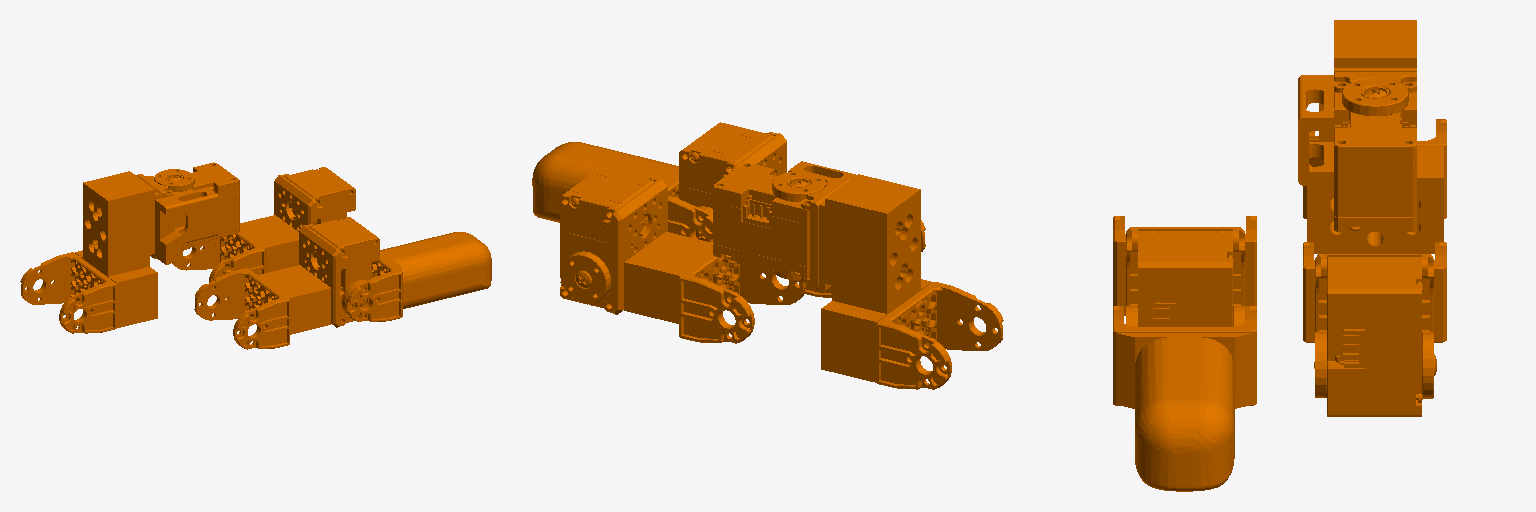
robot.urdf — onshape:
<robot name="onshape">
  <link name="palm_lower">
    <inertial>
      <origin xyz="0.0 0.0 0.0" rpy="0.0 -0.0 0.0"/>
      <mass value="0.237"/>
      <inertia ixx="0.000354094" ixy="-1.193e-06" ixz="-2.445e-06" iyy="0.000260915" iyz="-2.905e-06" izz="0.000529257"/>
    </inertial>
    <visual>
      <geometry>
        <mesh filename="../assets/leap/leap_hand/palm_lower.stl"/>
      </geometry>
      <origin xyz="-0.020095249652862544 0.025757756134899473 -0.034722403578460216" rpy="0.0 -0.0 0.0"/>
      <material name="palm_lower_material">
        <color rgba="0.6039215686274509 0.14901960784313725 0.14901960784313725 1.0"/>
      </material>
    </visual>
    <collision>
      <geometry>
        <mesh filename="../assets/leap/leap_hand/palm_lower.stl"/>
      </geometry>
      <origin xyz="-0.020095249652862544 0.025757756134899473 -0.034722403578460216" rpy="0.0 -0.0 0.0"/>
    </collision>
  </link>
  <link name="mcp_joint_long">
    <inertial>
      <origin xyz="0.0 0.0 0.0" rpy="0.0 -0.0 0.0"/>
      <mass value="0.044"/>
      <inertia ixx="1.1499e-05" ixy="3.049e-06" ixz="1.21e-07" iyy="7.796e-06" iyz="1.12e-07" izz="1.4759e-05"/>
    </inertial>
    <visual>
      <geometry>
        <mesh filename="custom_models/mcp_joint_long.stl"/>
      </geometry>
      <origin xyz="0.008406902261174496 0.0077662438597169954 0.014657354985032912" rpy="1.6375789613221e-15 -1.021047330249102e-30 1.7177968783327987e-31"/>
      <material name="mcp_joint_material">
        <color rgba="0.878 0.467 0.0 1.0"/>
      </material>
    </visual>
    <collision>
      <geometry>
        <mesh filename="custom_models/mcp_joint_long.stl"/>
      </geometry>
      <origin xyz="0.008406902261174496 0.0077662438597169954 0.014657354985032912" rpy="1.6375789613221e-15 -1.021047330249102e-30 1.7177968783327987e-31"/>
    </collision>
  </link>
  <link name="pip">
    <inertial>
      <origin xyz="0.0 0.0 0.0" rpy="0.0 -0.0 0.0"/>
      <mass value="0.032"/>
      <inertia ixx="4.798e-06" ixy="1.2e-08" ixz="4e-09" iyy="2.862e-06" iyz="1.1e-08" izz="4.234e-06"/>
    </inertial>
    <visual>
      <geometry>
        <mesh filename="../assets/leap/leap_hand/pip.stl"/>
      </geometry>
      <origin xyz="0.009643363092271328 0.0002999999999999895 0.0007840340104173765" rpy="-1.5707963267948966 -1.5707963267948963 0.0"/>
      <material name="pip_material">
        <color rgba="0.7490196078431373 0.7490196078431373 0.7490196078431373 1.0"/>
      </material>
    </visual>
    <collision>
      <geometry>
        <mesh filename="../assets/leap/leap_hand/pip.stl"/>
      </geometry>
      <origin xyz="0.009643363092271328 0.0002999999999999895 0.0007840340104173765" rpy="-1.5707963267948966 -1.5707963267948963 0.0"/>
    </collision>
  </link>
  <link name="dip_long">
    <inertial>
      <origin xyz="0.0 0.0 0.0" rpy="0.0 -0.0 0.0"/>
      <mass value="0.037"/>
      <inertia ixx="5.542e-06" ixy="-6.07e-07" ixz="-1.7e-08" iyy="5.727e-06" iyz="-2.3e-08" izz="6.682e-06"/>
    </inertial>
    <visual>
      <geometry>
        <mesh filename="custom_models/dip_long.stl"/>
      </geometry>
      <origin xyz="0.021133352895225003 -0.00843211914670488 0.00978508816209524" rpy="-3.141592653589793 4.507511124216441e-32 4.439548105392361e-32"/>
      <material name="dip_material">
        <color rgba="0.878 0.467 0.0 1.0"/>
      </material>
    </visual>
    <collision>
      <geometry>
        <mesh filename="custom_models/dip_long.stl"/>
      </geometry>
      <origin xyz="0.021133352895225003 -0.00843211914670488 0.00978508816209524" rpy="-3.141592653589793 4.507511124216441e-32 4.439548105392361e-32"/>
    </collision>
  </link>
  <link name="fingertip">
    <inertial>
      <origin xyz="0.0 0.0 0.0" rpy="0.0 -0.0 0.0"/>
      <mass value="0.016"/>
      <inertia ixx="3.368e-06" ixy="1.15e-07" ixz="0.0" iyy="1.556e-06" iyz="0.0" izz="2.863e-06"/>
    </inertial>
    <visual>
      <geometry>
        <mesh filename="../assets/leap/leap_hand/fingertip.stl"/>
      </geometry>
      <origin xyz="0.013286424108533503 -0.006114238386541987 0.014499999999999498" rpy="3.141592653589793 1.1993117970061735e-33 4.439548105392361e-32"/>
      <material name="fingertip_material">
        <color rgba="0.8666666666666667 0.8666666666666667 0.050980392156862744 1.0"/>
      </material>
    </visual>
    <collision>
      <geometry>
        <mesh filename="../assets/leap/leap_hand/fingertip.stl"/>
      </geometry>
      <origin xyz="0.013286424108533503 -0.006114238386541987 0.014499999999999498" rpy="3.141592653589793 1.1993117970061735e-33 4.439548105392361e-32"/>
    </collision>
  </link>
  <link name="pip_4">
    <inertial>
      <origin xyz="0.0 0.0 0.0" rpy="0.0 -0.0 0.0"/>
      <mass value="0.032"/>
      <inertia ixx="4.798e-06" ixy="1.2e-08" ixz="4e-09" iyy="2.862e-06" iyz="1.1e-08" izz="4.234e-06"/>
    </inertial>
    <visual>
      <geometry>
        <mesh filename="../assets/leap/leap_hand/pip.stl"/>
      </geometry>
      <origin xyz="-0.005356636907728671 0.0002999999999999999 0.0007840340104173782" rpy="-1.5707963267948966 -1.5707963267948963 0.0"/>
      <material name="pip_material">
        <color rgba="0.7490196078431373 0.7490196078431373 0.7490196078431373 1.0"/>
      </material>
    </visual>
    <collision>
      <geometry>
        <mesh filename="../assets/leap/leap_hand/pip.stl"/>
      </geometry>
      <origin xyz="-0.005356636907728671 0.0002999999999999999 0.0007840340104173782" rpy="-1.5707963267948966 -1.5707963267948963 0.0"/>
    </collision>
  </link>
  <link name="thumb_pip">
    <inertial>
      <origin xyz="0.0 0.0 0.0" rpy="0.0 -0.0 0.0"/>
      <mass value="0.003"/>
      <inertia ixx="5.93e-07" ixy="0.0" ixz="0.0" iyy="5.49e-07" iyz="0.0" izz="2.24e-07"/>
    </inertial>
    <visual>
      <geometry>
        <mesh filename="../assets/leap/leap_hand/thumb_pip.stl"/>
      </geometry>
      <origin xyz="0.011961920770611187 -5.30825383648903e-16 -0.0158526489566642" rpy="1.5707963267948966 1.6050198443300153e-46 -3.9204996250525193e-59"/>
      <material name="thumb_pip_material">
        <color rgba="0.8666666666666667 0.8666666666666667 0.050980392156862744 1.0"/>
      </material>
    </visual>
    <collision>
      <geometry>
        <mesh filename="../assets/leap/leap_hand/thumb_pip.stl"/>
      </geometry>
      <origin xyz="0.011961920770611187 -5.30825383648903e-16 -0.0158526489566642" rpy="1.5707963267948966 1.6050198443300153e-46 -3.9204996250525193e-59"/>
    </collision>
  </link>
  <link name="thumb_dip">
    <inertial>
      <origin xyz="0.0 0.0 0.0" rpy="0.0 -0.0 0.0"/>
      <mass value="0.038"/>
      <inertia ixx="8.474e-06" ixy="2.41e-07" ixz="2.6e-08" iyy="3.841e-06" iyz="2.5e-08" izz="7.679e-06"/>
    </inertial>
    <visual>
      <geometry>
        <mesh filename="../assets/leap/leap_hand/thumb_dip.stl"/>
      </geometry>
      <origin xyz="0.043968715707239175 0.0579529529737092 -0.008628676449369476" rpy="1.94289029309401e-16 3.27515792264422e-15 1.112375852965736e-46"/>
      <material name="thumb_dip_material">
        <color rgba="0.8666666666666667 0.8666666666666667 0.050980392156862744 1.0"/>
      </material>
    </visual>
    <collision>
      <geometry>
        <mesh filename="../assets/leap/leap_hand/thumb_dip.stl"/>
      </geometry>
      <origin xyz="0.043968715707239175 0.0579529529737092 -0.008628676449369476" rpy="1.94289029309401e-16 3.27515792264422e-15 1.112375852965736e-46"/>
    </collision>
  </link>
  <link name="thumb_fingertip">
    <inertial>
      <origin xyz="0.0 0.0 0.0" rpy="0.0 -0.0 0.0"/>
      <mass value="0.049"/>
      <inertia ixx="2.0372e-05" ixy="-4.89e-07" ixz="-3e-08" iyy="4.336e-06" iyz="-9.7e-08" izz="1.9845e-05"/>
    </inertial>
    <visual>
      <geometry>
        <mesh filename="../assets/leap/leap_hand/thumb_fingertip.stl"/>
      </geometry>
      <origin xyz="0.06255953846266739 0.07845968291139699 0.048992911807332215" rpy="4.379057701015637e-47 -3.33066907387547e-16 1.2042408677791935e-46"/>
      <material name="thumb_fingertip_material">
        <color rgba="0.6039215686274509 0.14901960784313725 0.14901960784313725 1.0"/>
      </material>
    </visual>
    <collision>
      <geometry>
        <mesh filename="../assets/leap/leap_hand/thumb_fingertip.stl"/>
      </geometry>
      <origin xyz="0.06255953846266739 0.07845968291139699 0.048992911807332215" rpy="4.379057701015637e-47 -3.33066907387547e-16 1.2042408677791935e-46"/>
    </collision>
  </link>
  <link name="mcp_joint_2">
    <inertial>
      <origin xyz="0.0 0.0 0.0" rpy="0.0 -0.0 0.0"/>
      <mass value="0.044"/>
      <inertia ixx="1.1499e-05" ixy="3.049e-06" ixz="1.21e-07" iyy="7.796e-06" iyz="1.12e-07" izz="1.4759e-05"/>
    </inertial>
    <visual>
      <geometry>
        <mesh filename="../assets/leap/leap_hand/mcp_joint.stl"/>
      </geometry>
      <origin xyz="0.008406902261174496 0.0077662438597169954 0.014657354985032914" rpy="1.6375789613221e-15 -1.0076465469034e-30 2.1209300131419907e-61"/>
      <material name="mcp_joint_material">
        <color rgba="0.8666666666666667 0.8666666666666667 0.050980392156862744 1.0"/>
      </material>
    </visual>
    <collision>
      <geometry>
        <mesh filename="../assets/leap/leap_hand/mcp_joint.stl"/>
      </geometry>
      <origin xyz="0.008406902261174496 0.0077662438597169954 0.014657354985032914" rpy="1.6375789613221e-15 -1.0076465469034e-30 2.1209300131419907e-61"/>
    </collision>
  </link>
  <link name="pip_2">
    <inertial>
      <origin xyz="0.0 0.0 0.0" rpy="0.0 -0.0 0.0"/>
      <mass value="0.032"/>
      <inertia ixx="4.798e-06" ixy="1.2e-08" ixz="4e-09" iyy="2.862e-06" iyz="1.1e-08" izz="4.234e-06"/>
    </inertial>
    <visual>
      <geometry>
        <mesh filename="../assets/leap/leap_hand/pip.stl"/>
      </geometry>
      <origin xyz="0.009643363092271328 0.0002999999999999947 0.0007840340104173765" rpy="-1.5707963267948966 -1.5707963267948963 0.0"/>
      <material name="pip_material">
        <color rgba="0.7490196078431373 0.7490196078431373 0.7490196078431373 1.0"/>
      </material>
    </visual>
    <collision>
      <geometry>
        <mesh filename="../assets/leap/leap_hand/pip.stl"/>
      </geometry>
      <origin xyz="0.009643363092271328 0.0002999999999999947 0.0007840340104173765" rpy="-1.5707963267948966 -1.5707963267948963 0.0"/>
    </collision>
  </link>
  <link name="dip_2_long">
    <inertial>
      <origin xyz="0.0 0.0 0.0" rpy="0.0 -0.0 0.0"/>
      <mass value="0.037"/>
      <inertia ixx="5.542e-06" ixy="-6.07e-07" ixz="-1.7e-08" iyy="5.727e-06" iyz="-2.3e-08" izz="6.682e-06"/>
    </inertial>
    <visual>
      <geometry>
        <mesh filename="custom_models/dip_long.stl"/>
      </geometry>
      <origin xyz="0.021133352895225003 -0.008432119146704865 0.009785088162095237" rpy="-3.141592653589793 2.1146933785271956e-32 1.4408183216511869e-31"/>
      <material name="dip_material">
        <color rgba="0.878 0.467 0.0 1.0"/>
      </material>
    </visual>
    <collision>
      <geometry>
        <mesh filename="custom_models/dip_long.stl"/>
      </geometry>
      <origin xyz="0.021133352895225003 -0.008432119146704865 0.009785088162095237" rpy="-3.141592653589793 2.1146933785271956e-32 1.4408183216511869e-31"/>
    </collision>
  </link>
  <link name="fingertip_2_long">
    <inertial>
      <origin xyz="0.0 0.0 0.0" rpy="0.0 -0.0 0.0"/>
      <mass value="0.016"/>
      <inertia ixx="3.368e-06" ixy="1.15e-07" ixz="0.0" iyy="1.556e-06" iyz="0.0" izz="2.863e-06"/>
    </inertial>
    <visual>
      <geometry>
        <mesh filename="custom_models/fingertip_long.stl"/>
      </geometry>
      <origin xyz="0.013286424108533496 -0.006114238386542001 0.014499999999999496" rpy="3.141592653589793 -4.317959788283594e-33 1.4408183216511869e-31"/>
      <material name="fingertip_material">
        <color rgba="0.878 0.467 0.0 1.0"/>
      </material>
    </visual>
    <collision>
      <geometry>
        <mesh filename="custom_models/fingertip_long.stl"/>
      </geometry>
      <origin xyz="0.013286424108533496 -0.006114238386542001 0.014499999999999496" rpy="3.141592653589793 -4.317959788283594e-33 1.4408183216511869e-31"/>
    </collision>
  </link>
  <link name="mcp_joint_3">
    <inertial>
      <origin xyz="0.0 0.0 0.0" rpy="0.0 -0.0 0.0"/>
      <mass value="0.044"/>
      <inertia ixx="1.1499e-05" ixy="3.049e-06" ixz="1.21e-07" iyy="7.796e-06" iyz="1.12e-07" izz="1.4759e-05"/>
    </inertial>
    <visual>
      <geometry>
        <mesh filename="../assets/leap/leap_hand/mcp_joint.stl"/>
      </geometry>
      <origin xyz="0.0084069022611745 0.007766243859716996 0.014657354985032914" rpy="1.6375789613221e-15 -1.0059504988632627e-30 5.729641584552035e-32"/>
      <material name="mcp_joint_material">
        <color rgba="0.8666666666666667 0.8666666666666667 0.050980392156862744 1.0"/>
      </material>
    </visual>
    <collision>
      <geometry>
        <mesh filename="../assets/leap/leap_hand/mcp_joint.stl"/>
      </geometry>
      <origin xyz="0.0084069022611745 0.007766243859716996 0.014657354985032914" rpy="1.6375789613221e-15 -1.0059504988632627e-30 5.729641584552035e-32"/>
    </collision>
  </link>
  <link name="pip_3">
    <inertial>
      <origin xyz="0.0 0.0 0.0" rpy="0.0 -0.0 0.0"/>
      <mass value="0.032"/>
      <inertia ixx="4.798e-06" ixy="1.2e-08" ixz="4e-09" iyy="2.862e-06" iyz="1.1e-08" izz="4.234e-06"/>
    </inertial>
    <visual>
      <geometry>
        <mesh filename="../assets/leap/leap_hand/pip.stl"/>
      </geometry>
      <origin xyz="0.009643363092271331 0.00029999999999998084 0.0007840340104173765" rpy="-1.5707963267948966 -1.5707963267948963 0.0"/>
      <material name="pip_material">
        <color rgba="0.7490196078431373 0.7490196078431373 0.7490196078431373 1.0"/>
      </material>
    </visual>
    <collision>
      <geometry>
        <mesh filename="../assets/leap/leap_hand/pip.stl"/>
      </geometry>
      <origin xyz="0.009643363092271331 0.00029999999999998084 0.0007840340104173765" rpy="-1.5707963267948966 -1.5707963267948963 0.0"/>
    </collision>
  </link>
  <link name="dip_3">
    <inertial>
      <origin xyz="0.0 0.0 0.0" rpy="0.0 -0.0 0.0"/>
      <mass value="0.037"/>
      <inertia ixx="5.542e-06" ixy="-6.07e-07" ixz="-1.7e-08" iyy="5.727e-06" iyz="-2.3e-08" izz="6.682e-06"/>
    </inertial>
    <visual>
      <geometry>
        <mesh filename="../assets/leap/leap_hand/dip.stl"/>
      </geometry>
      <origin xyz="0.021133352895225006 -0.008432119146704865 0.009785088162095237" rpy="-3.141592653589793 -1.4095651113919093e-33 1.5565411607615035e-32"/>
      <material name="dip_material">
        <color rgba="0.8666666666666667 0.8666666666666667 0.050980392156862744 1.0"/>
      </material>
    </visual>
    <collision>
      <geometry>
        <mesh filename="../assets/leap/leap_hand/dip.stl"/>
      </geometry>
      <origin xyz="0.021133352895225006 -0.008432119146704865 0.009785088162095237" rpy="-3.141592653589793 -1.4095651113919093e-33 1.5565411607615035e-32"/>
    </collision>
  </link>
  <link name="fingertip_3">
    <inertial>
      <origin xyz="0.0 0.0 0.0" rpy="0.0 -0.0 0.0"/>
      <mass value="0.016"/>
      <inertia ixx="3.368e-06" ixy="1.15e-07" ixz="0.0" iyy="1.556e-06" iyz="0.0" izz="2.863e-06"/>
    </inertial>
    <visual>
      <geometry>
        <mesh filename="../assets/leap/leap_hand/fingertip.stl"/>
      </geometry>
      <origin xyz="0.013286424108533501 -0.006114238386541987 0.0144999999999995" rpy="3.141592653589793 8.61707169505754e-33 1.5565411607615035e-32"/>
      <material name="fingertip_material">
        <color rgba="0.8666666666666667 0.8666666666666667 0.050980392156862744 1.0"/>
      </material>
    </visual>
    <collision>
      <geometry>
        <mesh filename="../assets/leap/leap_hand/fingertip.stl"/>
      </geometry>
      <origin xyz="0.013286424108533501 -0.006114238386541987 0.0144999999999995" rpy="3.141592653589793 8.61707169505754e-33 1.5565411607615035e-32"/>
    </collision>
  </link>
  <joint name="1" type="revolute">
    <parent link="palm_lower"/>
    <child link="mcp_joint_long"/>
    <origin xyz="-0.007095249652862546 0.023057756134899472 -0.01872240357846022" rpy="1.570796326794895 1.5707963267948946 0.0"/>
    <axis xyz="0.0 0.0 -1.0"/>
    <limit effort="0.95" velocity="8.48" lower="-0.314" upper="2.23"/>
  </joint>
  <joint name="0" type="revolute">
    <parent link="mcp_joint_long"/>
    <child link="pip"/>
    <origin xyz="-0.012200000000000007713 0.053099999999999994982 0.014500000000000000736" rpy="-1.5707963267948966 -1.0065212660796337e-15 1.5707963267948943"/>
    <axis xyz="0.0 0.0 -1.0"/>
    <limit effort="0.95" velocity="8.48" lower="-1.047" upper="1.047"/>
  </joint>
  <joint name="2" type="revolute">
    <parent link="pip"/>
    <child link="dip_long"/>
    <origin xyz="0.014999999999999968 0.014299999999999905 -0.012999999999999824" rpy="1.570796326794896 -1.5707963267948963 0.0"/>
    <axis xyz="0.0 0.0 -1.0"/>
    <limit effort="0.95" velocity="8.48" lower="-0.506" upper="1.885"/>
  </joint>
  <joint name="3" type="revolute">
    <parent link="dip_long"/>
    <child link="fingertip"/>
    <origin xyz="-4.0880582495572692636e-09 -0.051100004210367367397 0.00020000000000007858714" rpy="4.5935029425113685e-17 -2.8730071914463795e-16 4.439548105392361e-32"/>
    <axis xyz="0.0 0.0 -1.0"/>
    <limit effort="0.95" velocity="8.48" lower="-0.366" upper="2.042"/>
  </joint>
  <joint name="12" type="revolute">
    <parent link="palm_lower"/>
    <child link="pip_4"/>
    <origin xyz="-0.06939524965286253 -0.0012422438651005258 -0.021622403578460216" rpy="-8.238176646493942e-17 1.5707963267948957 0.0"/>
    <axis xyz="0.0 0.0 -1.0"/>
    <limit effort="0.95" velocity="8.48" lower="-0.349" upper="2.094"/>
  </joint>
  <joint name="13" type="revolute">
    <parent link="pip_4"/>
    <child link="thumb_pip"/>
    <origin xyz="-2.7755575615628914e-17 0.014300000000000005 -0.013000000000000012" rpy="1.570796326794896 -1.5707963267948963 0.0"/>
    <axis xyz="0.0 0.0 -1.0"/>
    <limit effort="0.95" velocity="8.48" lower="-0.47" upper="2.443"/>
  </joint>
  <joint name="14" type="revolute">
    <parent link="thumb_pip"/>
    <child link="thumb_dip"/>
    <origin xyz="0.0 0.014499999999999966 -0.017000000000000053" rpy="-1.5707963267948966 1.6050198443300131e-46 -1.9721522630516625e-31"/>
    <axis xyz="0.0 0.0 -1.0"/>
    <limit effort="0.95" velocity="8.48" lower="-1.2" upper="1.9"/>
  </joint>
  <joint name="15" type="revolute">
    <parent link="thumb_dip"/>
    <child link="thumb_fingertip"/>
    <origin xyz="-1.249000902703301e-16 0.046599999999999864 0.0001999999999999771" rpy="1.506395849149178e-44 5.423418723393526e-31 3.141592653589793"/>
    <axis xyz="0.0 0.0 -1.0"/>
    <limit effort="0.95" velocity="8.48" lower="-1.34" upper="1.88"/>
  </joint>
  <joint name="5" type="revolute">
    <parent link="palm_lower"/>
    <child link="mcp_joint_2"/>
    <origin xyz="-0.007095249652862546 -0.022392243865100525 -0.01872240357846022" rpy="1.570796326794895 1.5707963267948946 0.0"/>
    <axis xyz="0.0 0.0 -1.0"/>
    <limit effort="0.95" velocity="8.48" lower="-0.314" upper="2.23"/>
  </joint>
  <joint name="4" type="revolute">
    <parent link="mcp_joint_2"/>
    <child link="pip_2"/>
    <origin xyz="-0.012200000000000008 0.038099999999999995 0.0145" rpy="-1.5707963267948966 -1.0065212660796337e-15 1.5707963267948943"/>
    <axis xyz="0.0 0.0 -1.0"/>
    <limit effort="0.95" velocity="8.48" lower="-1.047" upper="1.047"/>
  </joint>
  <joint name="6" type="revolute">
    <parent link="pip_2"/>
    <child link="dip_2_long"/>
    <origin xyz="0.014999999999999968 0.014299999999999905 -0.012999999999999824" rpy="1.570796326794896 -1.5707963267948963 0.0"/>
    <axis xyz="0.0 0.0 -1.0"/>
    <limit effort="0.95" velocity="8.48" lower="-0.506" upper="1.885"/>
  </joint>
  <joint name="7" type="revolute">
    <parent link="dip_2_long"/>
    <child link="fingertip_2_long"/>
    <origin xyz="-4.0880582495572692636e-09 -0.051100004210367367397 0.00020000000000007858714" rpy="4.5935029425113685e-17 -2.8730071914463795e-16 4.439548105392361e-32"/>
    <axis xyz="0.0 0.0 -1.0"/>
    <limit effort="0.95" velocity="8.48" lower="-0.366" upper="2.042"/>
  </joint>
  <joint name="9" type="revolute">
    <parent link="palm_lower"/>
    <child link="mcp_joint_3"/>
    <origin xyz="-0.007095249652862546 -0.06784224386510052 -0.01872240357846022" rpy="1.570796326794895 1.5707963267948946 0.0"/>
    <axis xyz="0.0 0.0 -1.0"/>
    <limit effort="0.95" velocity="8.48" lower="-0.314" upper="2.23"/>
  </joint>
  <joint name="8" type="revolute">
    <parent link="mcp_joint_3"/>
    <child link="pip_3"/>
    <origin xyz="-0.012200000000000008 0.038099999999999995 0.0145" rpy="-1.5707963267948966 -1.0065212660796337e-15 1.5707963267948943"/>
    <axis xyz="0.0 0.0 -1.0"/>
    <limit effort="0.95" velocity="8.48" lower="-1.047" upper="1.047"/>
  </joint>
  <joint name="10" type="revolute">
    <parent link="pip_3"/>
    <child link="dip_3"/>
    <origin xyz="0.014999999999999968 0.014299999999999905 -0.012999999999999824" rpy="1.570796326794896 -1.5707963267948963 0.0"/>
    <axis xyz="0.0 0.0 -1.0"/>
    <limit effort="0.95" velocity="8.48" lower="-0.506" upper="1.885"/>
  </joint>
  <joint name="11" type="revolute">
    <parent link="dip_3"/>
    <child link="fingertip_3"/>
    <origin xyz="-4.088058249557269e-09 -0.03610000421036737 0.0002000000000000786" rpy="4.5935029425113685e-17 -2.8730071914463795e-16 4.439548105392361e-32"/>
    <axis xyz="0.0 0.0 -1.0"/>
    <limit effort="0.95" velocity="8.48" lower="-0.366" upper="2.042"/>
  </joint>
</robot>

--- Facts derived from the render (not from the file) ---
3 views of the same robot in one strip: view 1: azimuth 30°, elevation 25°; view 2: azimuth 150°, elevation 25°; view 3: azimuth 270°, elevation 25° (orthographic).
Model onshape with 17 links and 16 joints (16 revolute), rooted at palm_lower, posed every joint at zero.
Visible links, largest first — view 1: mcp_joint_long, dip_2_long, dip_long, fingertip_2_long; view 2: mcp_joint_long, dip_long, fingertip_2_long, dip_2_long; view 3: mcp_joint_long, dip_long, fingertip_2_long, dip_2_long.
Boxes of the visible links, x1,y1,x2,y2 form: mcp_joint_long: [20, 162, 239, 333]; dip_2_long: [194, 217, 379, 349]; dip_long: [172, 167, 355, 298]; fingertip_2_long: [345, 232, 491, 321]; mcp_joint_long: [713, 161, 1003, 389]; dip_long: [560, 167, 805, 343]; fingertip_2_long: [532, 142, 712, 242]; dip_2_long: [679, 122, 925, 297]; mcp_joint_long: [1298, 20, 1446, 253]; dip_long: [1303, 242, 1446, 416]; fingertip_2_long: [1113, 306, 1256, 491]; dip_2_long: [1113, 216, 1256, 326].
Bounding box of the posed robot: 0.1766 × 0.0804 × 0.0549 m (x, y, z).
4 mesh visuals loaded from 11 distinct referenced files (3 binary STL); not drawn: 13 (reference not matched to a file when rendering).